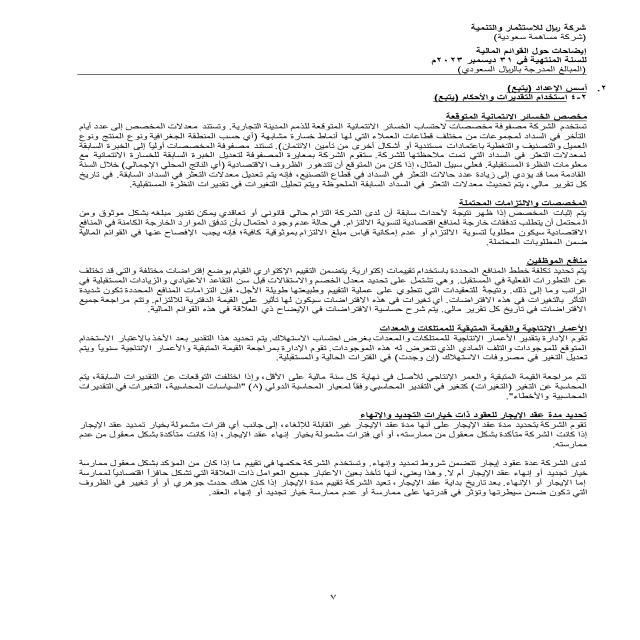notes: (465, 47, 602, 54)
text: (57, 83, 606, 520)
